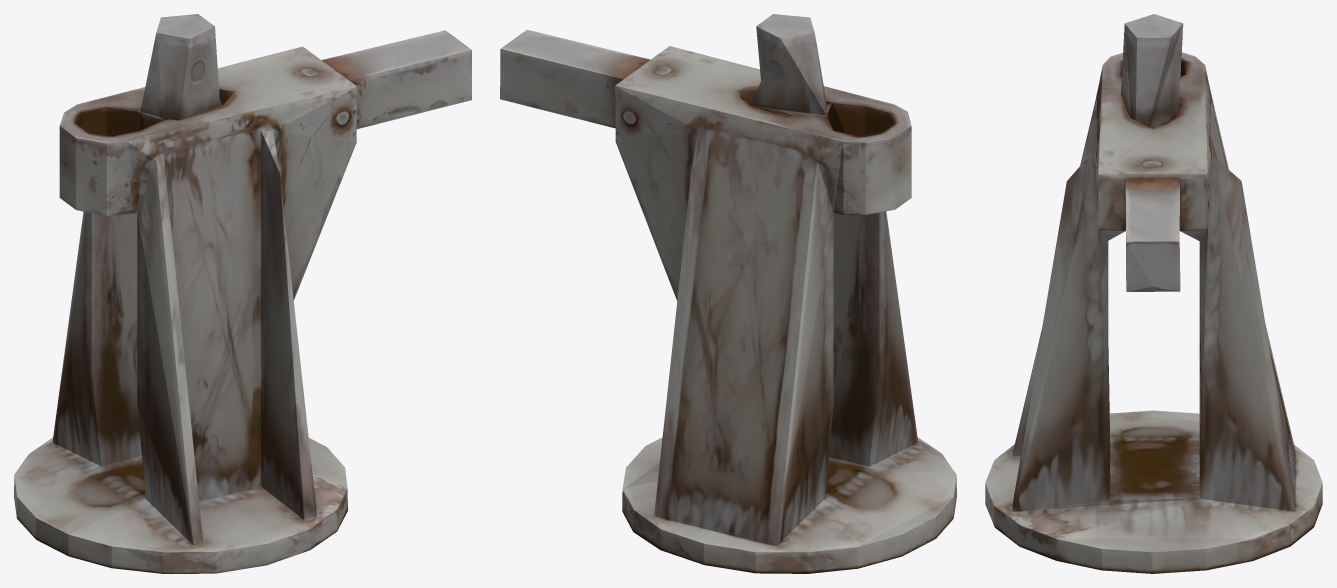
File: car_m_v2_gun_mount.glb
3 views of the same model, side by side, from view 1: azimuth 30°, elevation 25°; view 2: azimuth 150°, elevation 25°; view 3: azimuth 270°, elevation 25° (orthographic).
Visible parts, largest first — view 1: geometry_0; view 2: geometry_0; view 3: geometry_0.
Boxes of the visible parts, x1=… form: geometry_0: x1=14, y1=14, x2=471, y2=573; geometry_0: x1=500, y1=14, x2=956, y2=573; geometry_0: x1=985, y1=14, x2=1322, y2=573.
Size of the model in its own units: 0.8828 by 0.9824 by 0.6079.
1 material, 1 textured.
